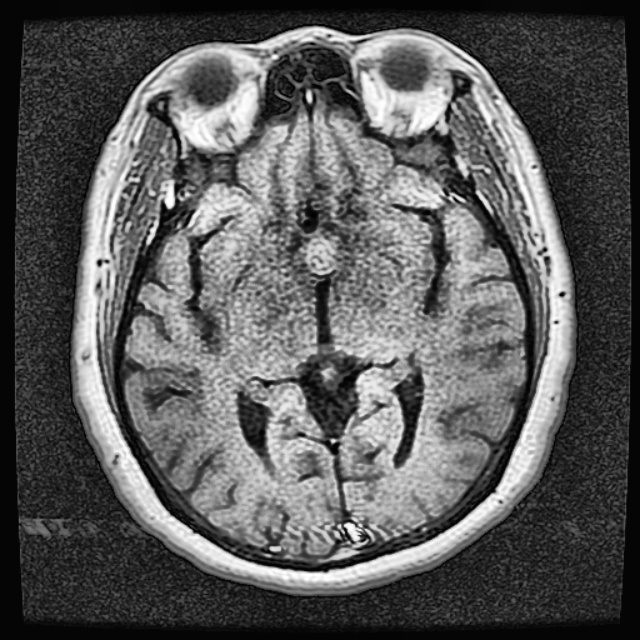Pituitary: (299, 228, 345, 272)
